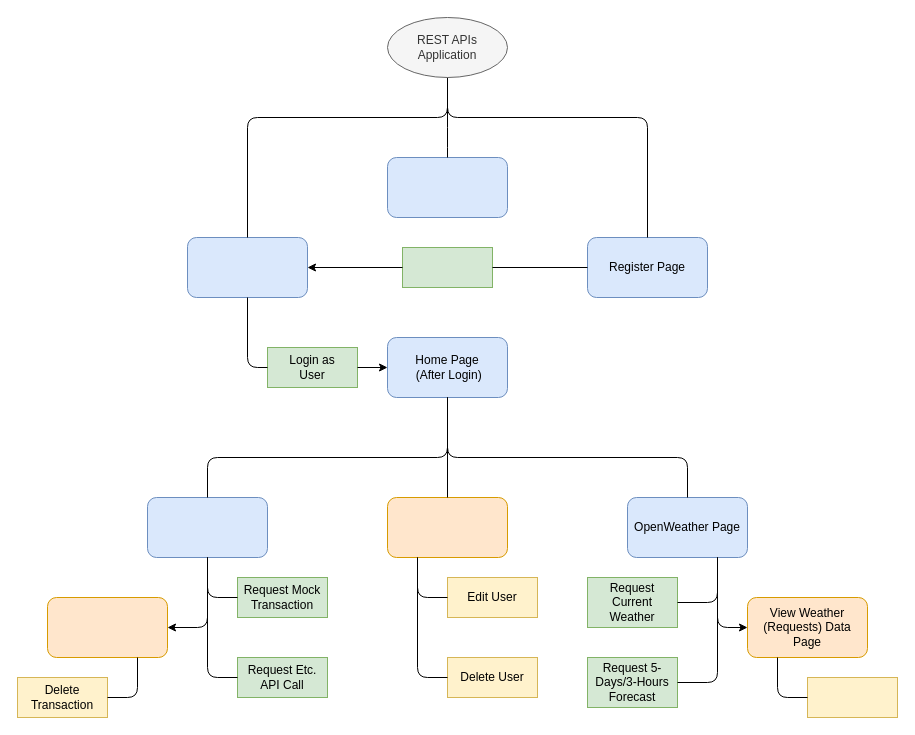
The diagram is 915 pixels wide and 735 high, and some of its shapes have lost their labels. Each missing label, with the centre of its shape:
Delete Weather Data: the point at 852,697
Home Page (Before Login): the point at 447,187
Login Page: the point at 247,267
PayPal Page: the point at 207,527
Register as new User: the point at 447,267
User Management Page: the point at 447,527
View Transactions Page: the point at 107,627
